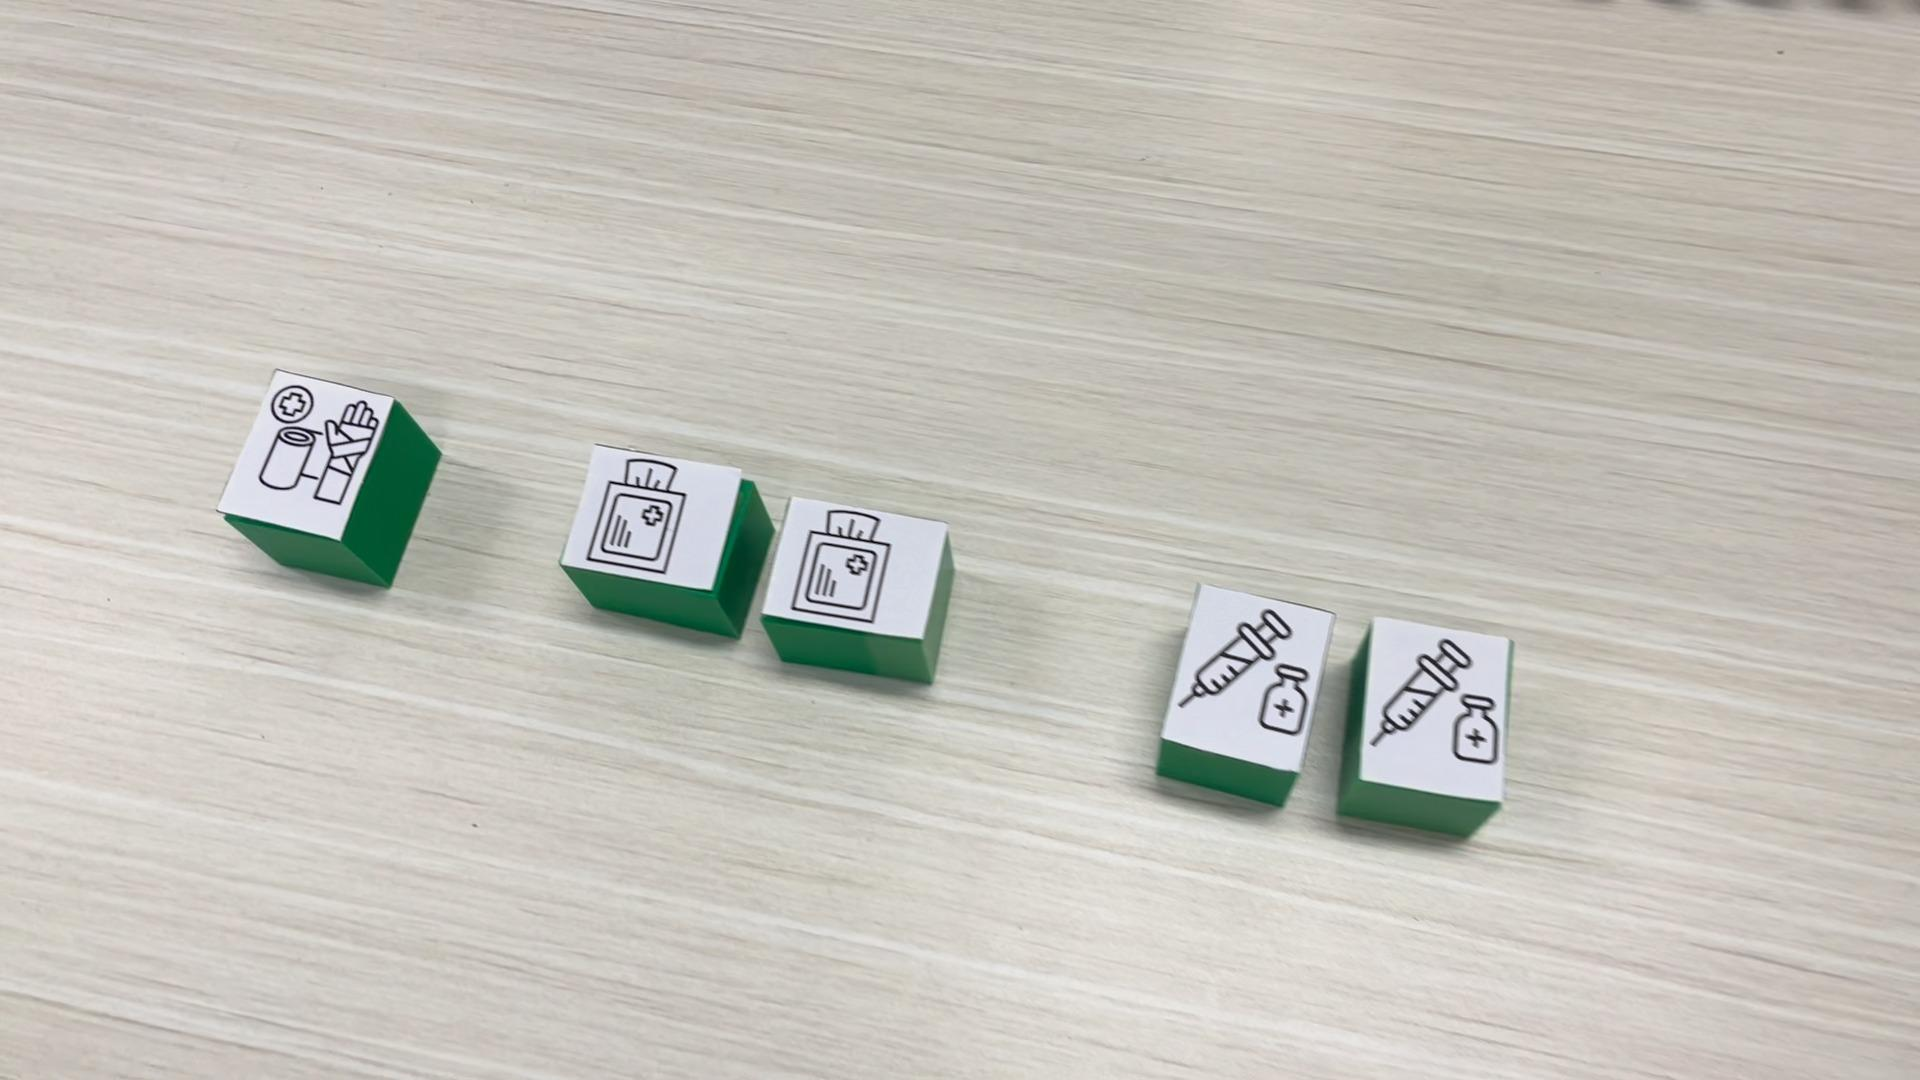Bandages: (216, 367, 440, 587)
Gauze: (556, 443, 774, 642), (760, 492, 959, 687)
antiseptic cream: (1153, 582, 1346, 811), (1337, 609, 1516, 837)
